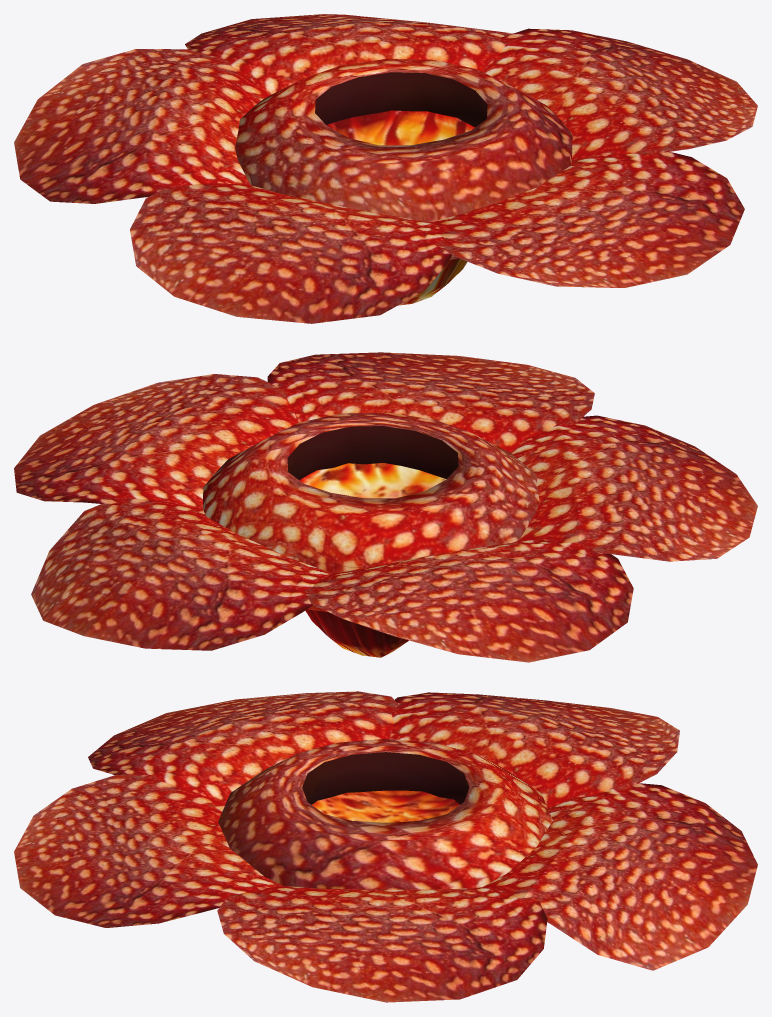
File: Raflesia arnoldi.fbx
3 views of the same model, one above another, from view 1: azimuth 30°, elevation 25°; view 2: azimuth 150°, elevation 25°; view 3: azimuth 270°, elevation 25° (orthographic).
Visible parts, largest first — view 1: Plane; view 2: Plane; view 3: Plane.
Boxes of the visible parts, x1=… form: Plane: x1=14, y1=14, x2=757, y2=323; Plane: x1=14, y1=352, x2=757, y2=662; Plane: x1=14, y1=691, x2=757, y2=1002.
Size of the model in its own units: 377 by 106 by 385.
1 material, 1 textured.
